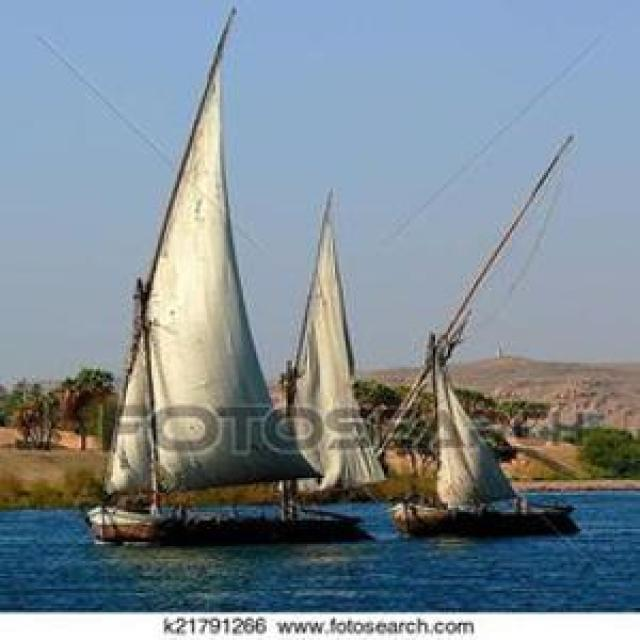sailboat: (68, 28, 332, 535), (243, 171, 386, 541), (378, 331, 580, 548)
